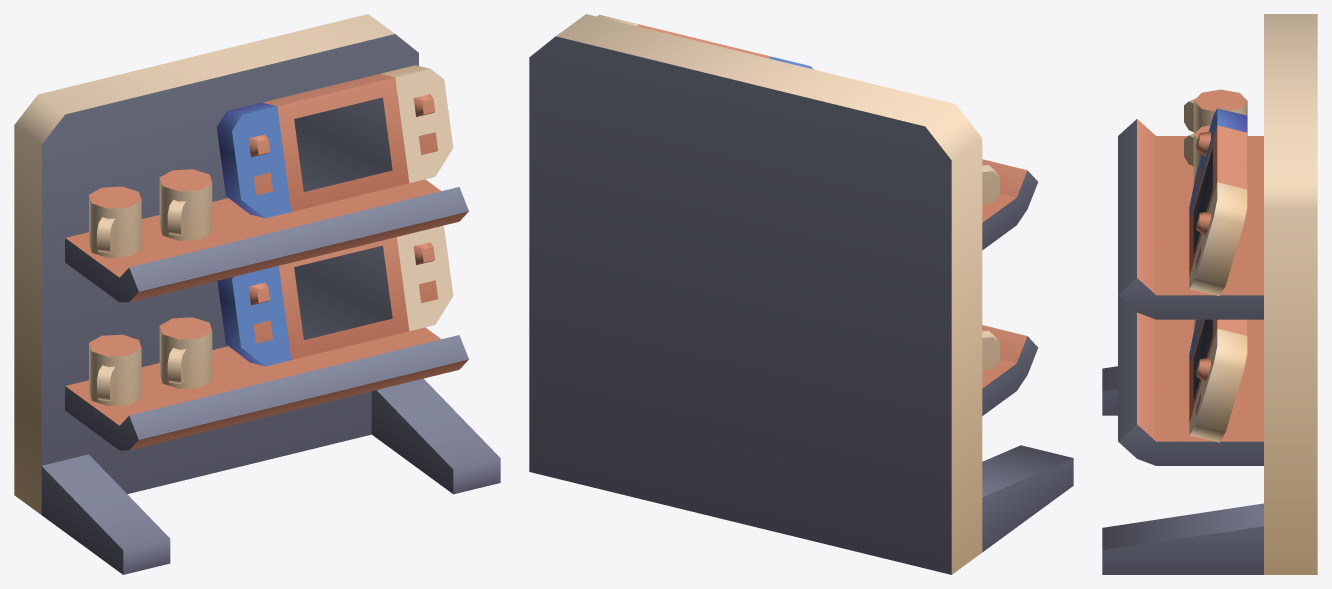
The model's file is prizes.obj.
The picture shows the model from 3 angles, left to right: view 1: azimuth 30°, elevation 25°; view 2: azimuth 150°, elevation 25°; view 3: azimuth 270°, elevation 25°; orthographic projection. The views are drawn at different scales.
Visible parts, largest first — view 1: prizes; view 2: prizes; view 3: prizes.
Boxes of the visible parts, x1,y1,x2,y2 form: prizes: [14, 14, 500, 574]; prizes: [529, 14, 1073, 574]; prizes: [1102, 14, 1317, 574].
Size of the model in its own units: 0.8 by 0.8 by 0.4.
